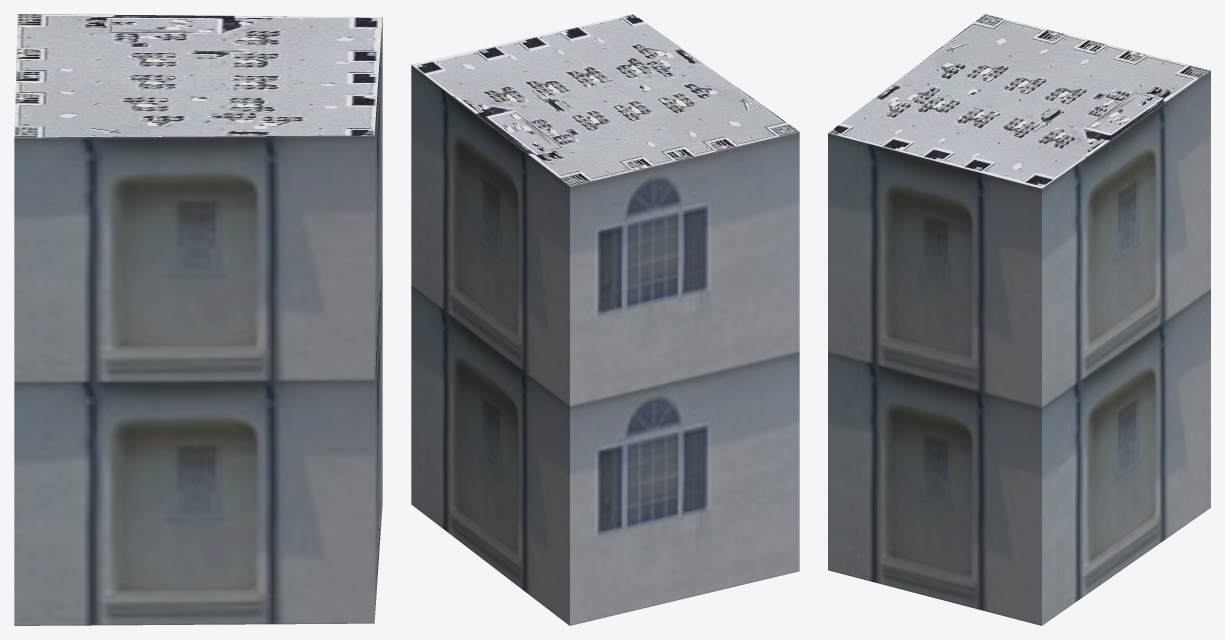
The model's file is ResTex__3640.fbx.
3 views of the same model, side by side, from view 1: azimuth 30°, elevation 25°; view 2: azimuth 150°, elevation 25°; view 3: azimuth 270°, elevation 25° (orthographic). The views are drawn at different scales.
Visible parts, largest first — view 1: CityEngineMaterial_17_m, CityEngineMaterial_8_m; view 2: CityEngineMaterial_17_m, CityEngineMaterial_8_m; view 3: CityEngineMaterial_17_m, CityEngineMaterial_8_m.
Part boxes in pixels (<box>): CityEngineMaterial_17_m: <box>14,17,382,625</box>; CityEngineMaterial_8_m: <box>14,14,382,137</box>; CityEngineMaterial_17_m: <box>411,65,799,625</box>; CityEngineMaterial_8_m: <box>411,14,799,186</box>; CityEngineMaterial_17_m: <box>828,70,1210,625</box>; CityEngineMaterial_8_m: <box>828,14,1210,188</box>.
Size of the model in its own units: 5.14 by 6 by 4.76.
2 materials, 2 textured.
